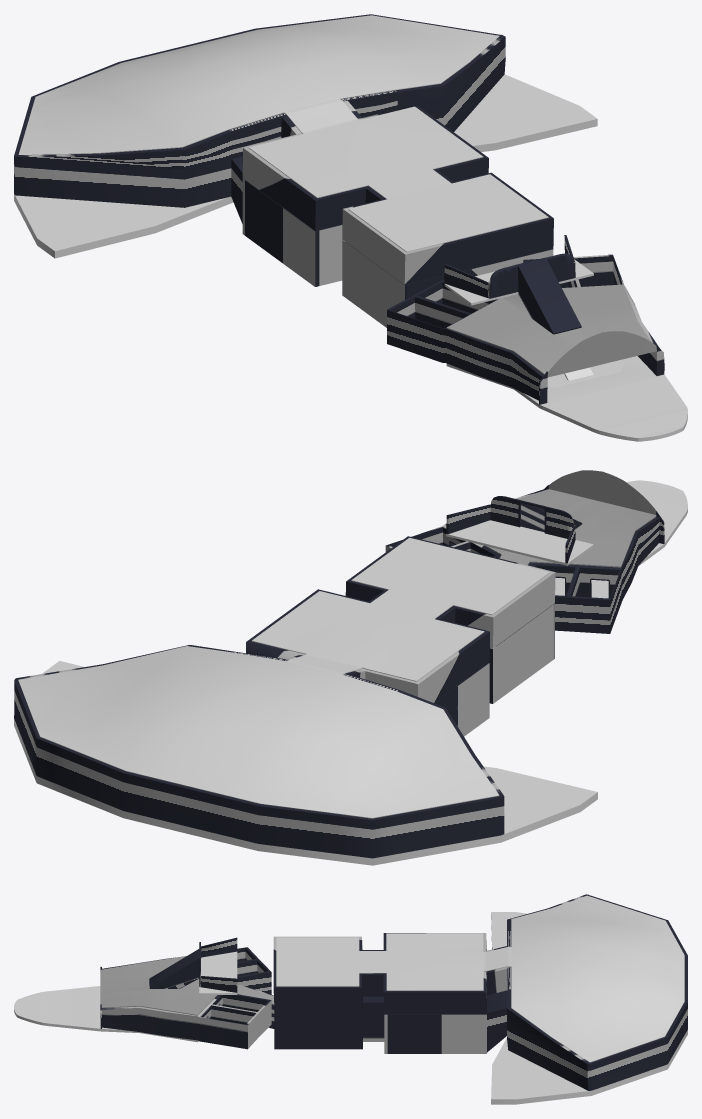
The model's file is shipwithramp.fbx.
The picture shows the model from 3 angles, top to bottom: view 1: azimuth 30°, elevation 25°; view 2: azimuth 150°, elevation 25°; view 3: azimuth 270°, elevation 25°; orthographic projection. The views are drawn at different scales.
Visible parts, largest first — view 1: EngineRoomCeiling, EngineRoomFloor, Top-Back Room Walls, EngineRoom, UpperRoomLargeCeiling, FrontRoomCeiling, OxygenRoomCeiling, FrontRoomFloor, Bedrooms_Right, EngineRoomUpperWall, HangerRoomWalls, Cockpit Ramp.002 (+6 smaller); view 2: EngineRoomCeiling, EngineRoom, UpperRoomLargeCeiling, EngineRoomFloor, OxygenRoomCeiling, Top-Back Room Walls, FrontRoomCeiling, Bedrooms_Right, Modular Room, Cockpit Ramp.002, Cockpit Ramp, HangerRoomWalls (+5 smaller); view 3: EngineRoomCeiling, EngineRoom, Top-Back Room Walls, Bedrooms_Left, UpperRoomLargeCeiling, EngineRoomFloor, FrontRoomCeiling, OxygenRoomCeiling, HangerRoomWalls, Modular Room, FrontRoomFloor, Cockpit Ramp.002 (+7 smaller).
Part boxes in pixels (x1,y1,x2,y2): EngineRoomCeiling: (18, 15, 499, 154); EngineRoomFloor: (14, 74, 597, 258); Top-Back Room Walls: (242, 105, 553, 284); EngineRoom: (14, 14, 505, 223); UpperRoomLargeCeiling: (248, 106, 483, 198); FrontRoomCeiling: (446, 284, 656, 377); OxygenRoomCeiling: (348, 174, 548, 252); FrontRoomFloor: (446, 356, 687, 441); Bedrooms_Right: (387, 279, 547, 404); EngineRoomUpperWall: (14, 34, 505, 170); HangerRoomWalls: (242, 178, 342, 286); Cockpit Ramp.002: (444, 235, 581, 334); EngineRoomCeiling: (18, 646, 499, 818); EngineRoom: (14, 680, 504, 858); UpperRoomLargeCeiling: (252, 591, 484, 681); EngineRoomFloor: (14, 661, 597, 865); OxygenRoomCeiling: (351, 537, 550, 614); Top-Back Room Walls: (246, 536, 555, 702); FrontRoomCeiling: (445, 470, 656, 567); Bedrooms_Right: (531, 511, 664, 633); Modular Room: (489, 603, 554, 703); Cockpit Ramp.002: (446, 496, 582, 563); Cockpit Ramp: (446, 520, 593, 565); HangerRoomWalls: (434, 662, 489, 736); EngineRoomCeiling: (511, 895, 684, 1062); EngineRoom: (487, 895, 687, 1090); Top-Back Room Walls: (273, 933, 486, 1014); Bedrooms_Left: (100, 994, 271, 1049); UpperRoomLargeCeiling: (386, 933, 483, 990); EngineRoomFloor: (491, 912, 687, 1104); FrontRoomCeiling: (100, 956, 274, 1015); OxygenRoomCeiling: (276, 937, 359, 986); HangerRoomWalls: (384, 1014, 486, 1053); Modular Room: (274, 1010, 362, 1049); FrontRoomFloor: (14, 986, 198, 1042); Cockpit Ramp.002: (149, 937, 237, 992).
Size of the model in its own units: 7800 by 1466 by 11860.
Materials: 2 (1 with a texture image).
